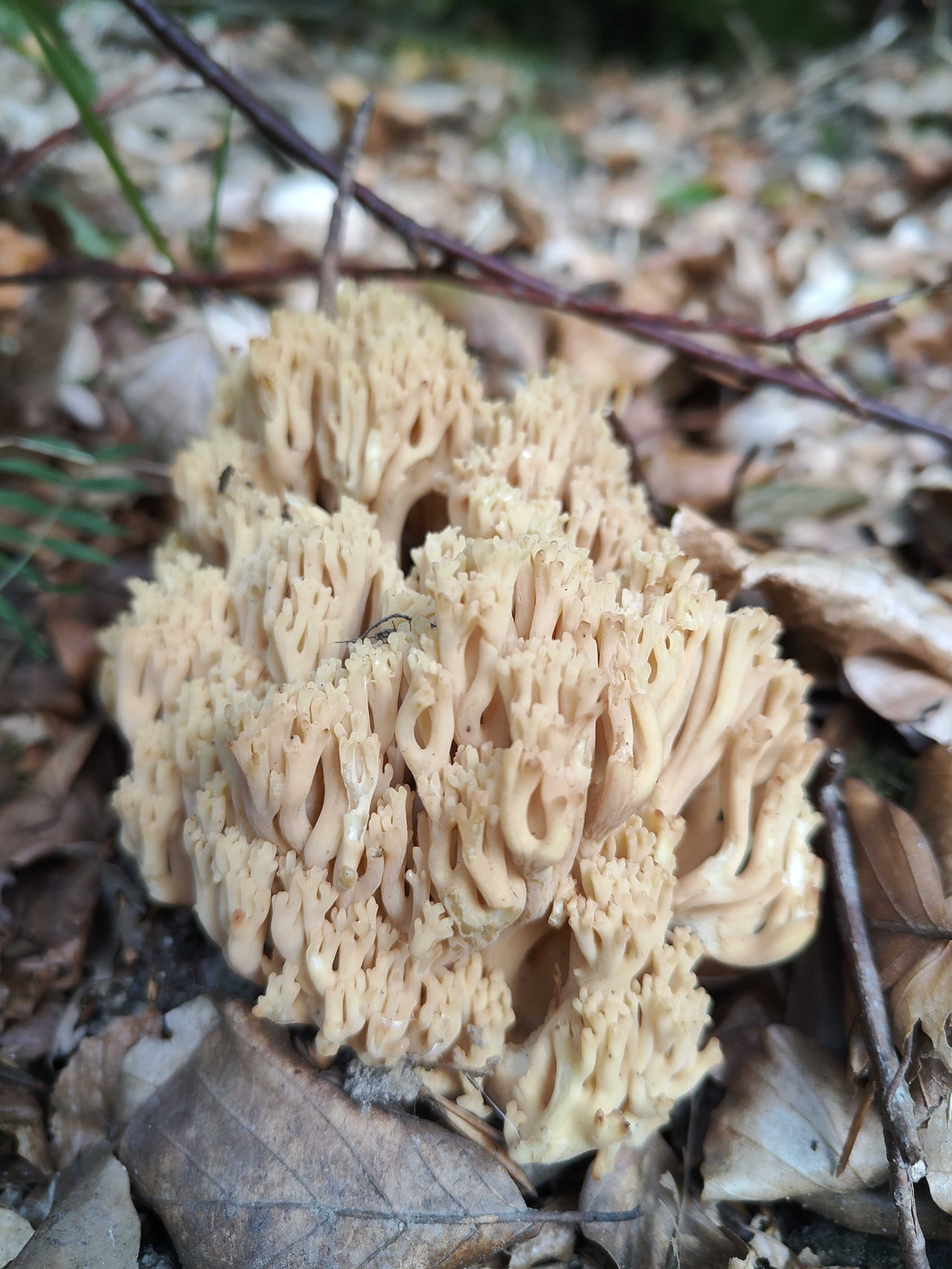coral: (100, 288, 822, 1173)
